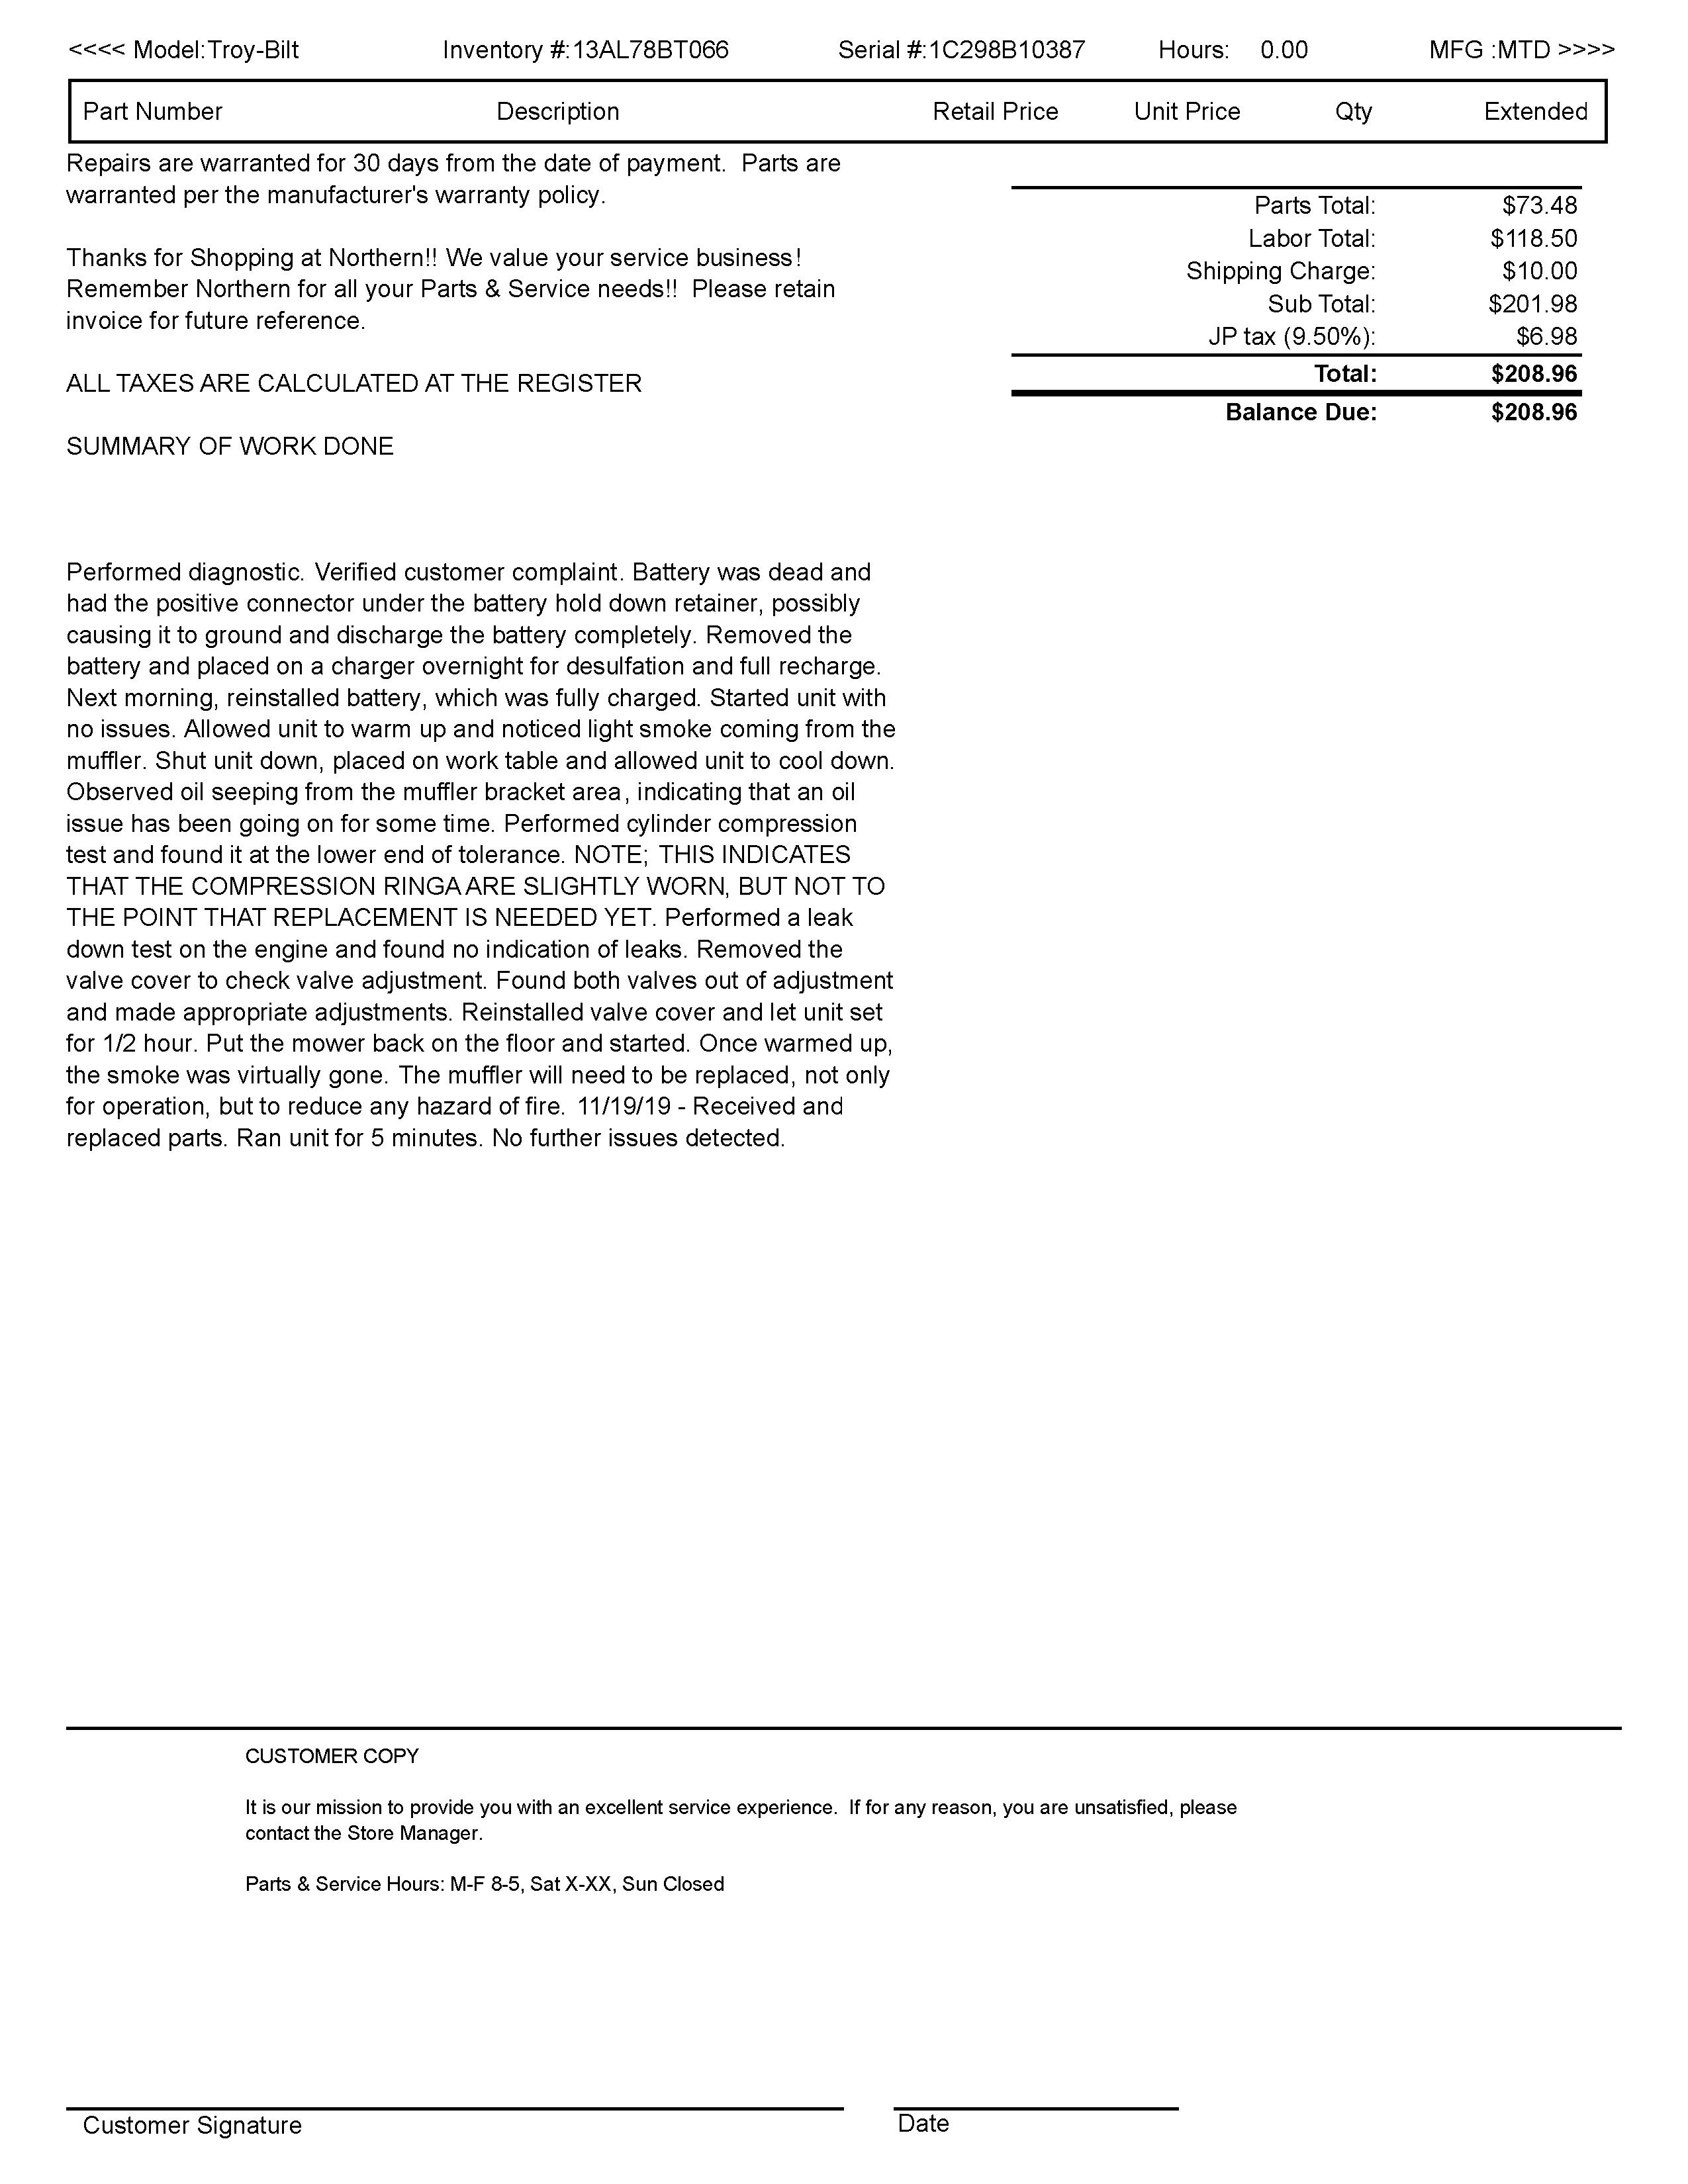B_Paragraph: (60, 553, 895, 1163), (60, 246, 840, 347), (128, 19, 1548, 67), (234, 1789, 1259, 1847), (67, 138, 853, 213), (60, 372, 656, 408), (239, 1870, 732, 1909), (245, 1739, 422, 1767), (890, 2111, 965, 2140)
B_SubTitle: (76, 96, 1599, 133), (67, 431, 404, 463), (87, 2111, 310, 2147)
B_Table: (1000, 174, 1596, 440)
